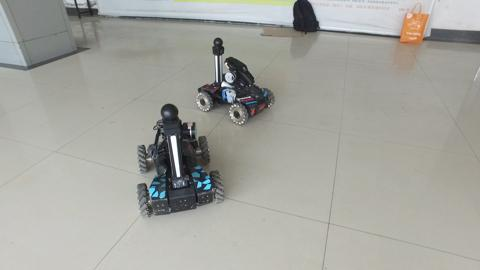chariot: (131, 102, 223, 225), (190, 37, 275, 130)
